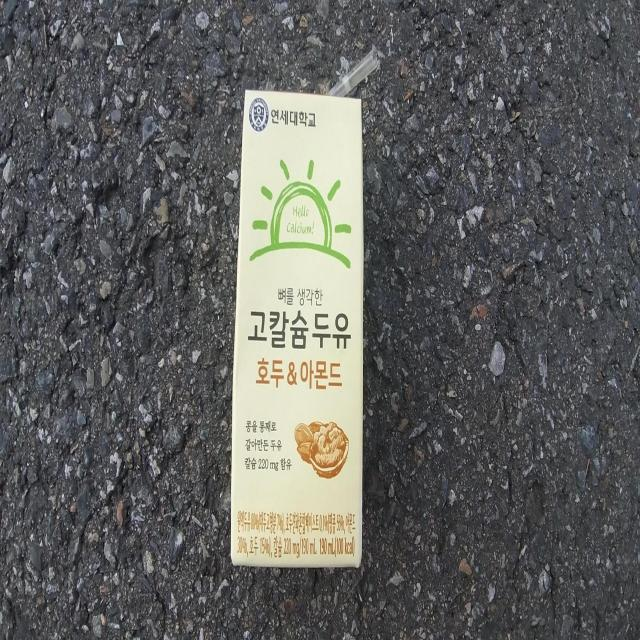paperpack: (231, 89, 364, 567)
